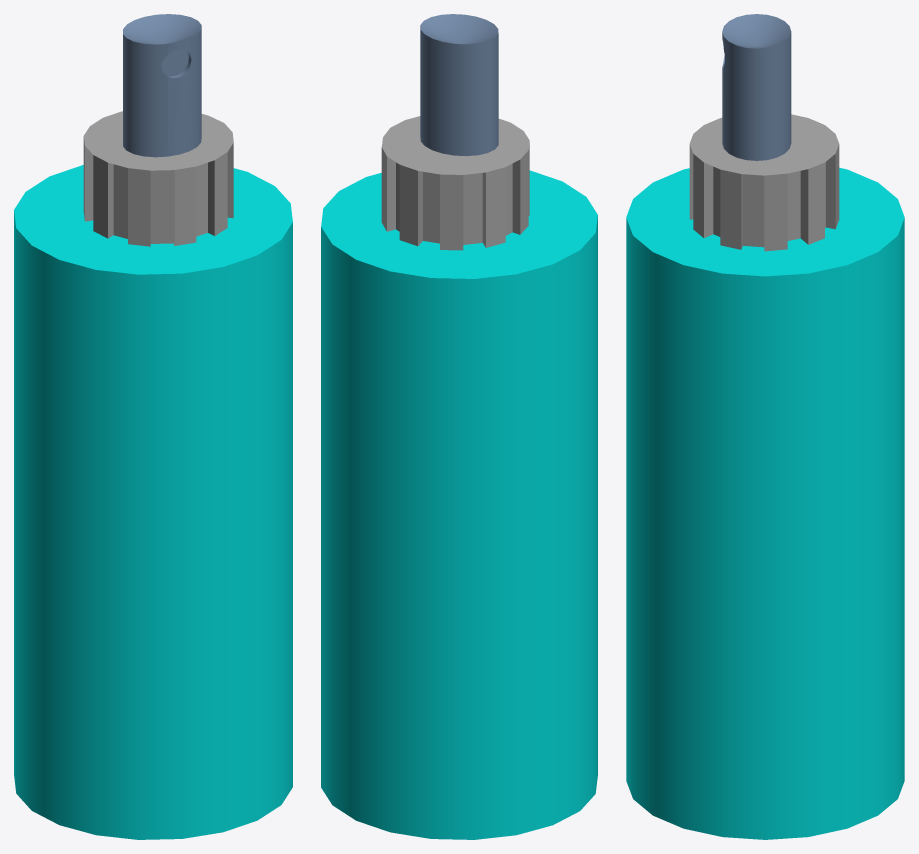
The model's file is desinfektion.fbx.
3 renders of one model, left to right at view 1: azimuth 30°, elevation 25°; view 2: azimuth 150°, elevation 25°; view 3: azimuth 270°, elevation 25°, orthographic.
Parts seen in each view (by area): view 1: pCylinder1, pCylinder5, pCylinder4; view 2: pCylinder1, pCylinder5, pCylinder4; view 3: pCylinder1, pCylinder5, pCylinder4.
Boxes of the visible parts, x1,y1,x2,y2 form: pCylinder1: (14,165,292,839); pCylinder5: (83,111,233,246); pCylinder4: (123,14,201,157); pCylinder1: (321,170,597,839); pCylinder5: (381,116,529,250); pCylinder4: (420,14,498,156); pCylinder1: (626,167,904,839); pCylinder5: (689,114,839,251); pCylinder4: (722,14,791,160).
Bounding box in the file's own units: 2.3 × 6.82 × 2.29.
